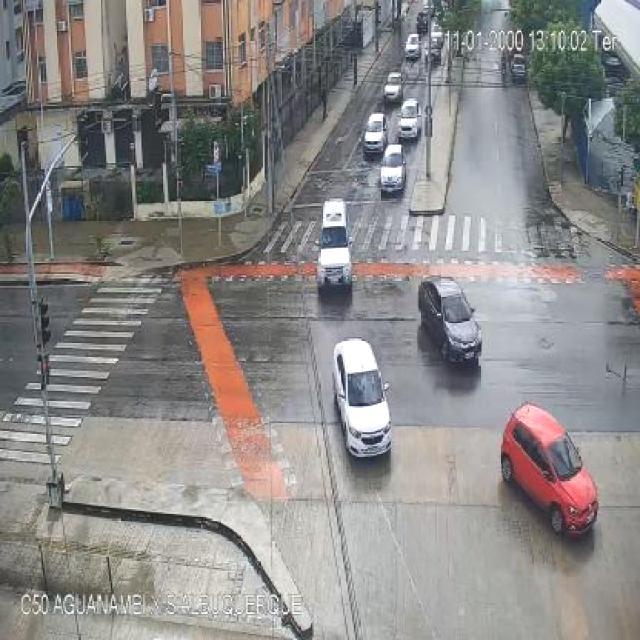Car: (499, 400, 601, 541), (334, 334, 396, 468), (416, 273, 487, 366), (380, 146, 408, 198), (361, 112, 387, 156), (397, 99, 421, 141), (383, 72, 403, 101), (402, 34, 422, 60)
Van: (316, 198, 354, 288)
